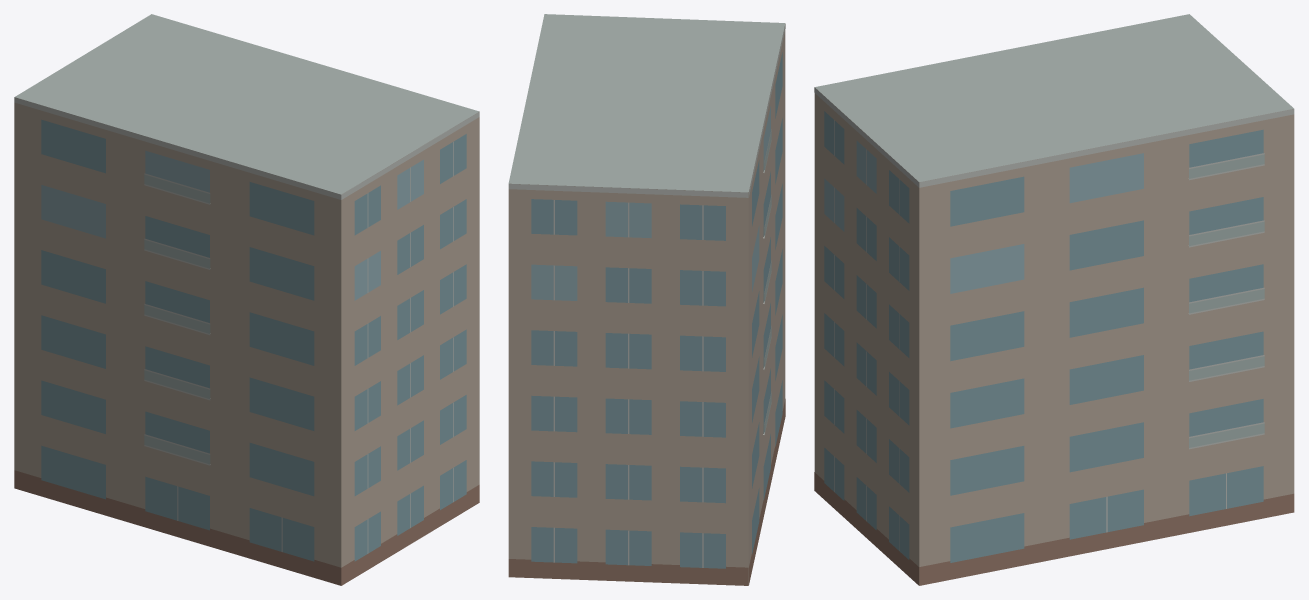
File: survey-upis-32538090.glb
3 renders of one model, left to right at view 1: azimuth 30°, elevation 25°; view 2: azimuth 150°, elevation 25°; view 3: azimuth 270°, elevation 25°, orthographic. The views are drawn at different scales.
Visible parts, largest first — view 1: survey-upis-32538090.tmp; view 2: survey-upis-32538090.tmp; view 3: survey-upis-32538090.tmp.
Part boxes in pixels (x1,y1,x2,y2): survey-upis-32538090.tmp: (14,14,479,585); survey-upis-32538090.tmp: (508,14,785,585); survey-upis-32538090.tmp: (814,14,1294,585).
Bounding box in the file's own units: 15.65 × 17.5 × 18.86.
